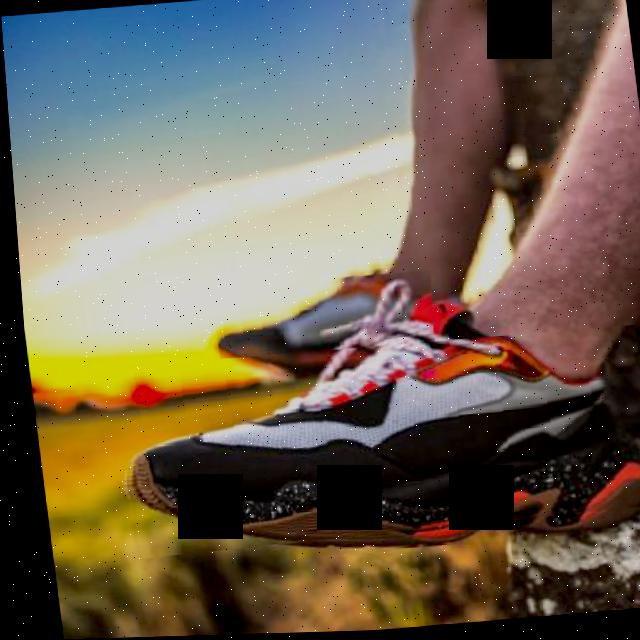shoe: (102, 328, 640, 561), (206, 273, 438, 383)
